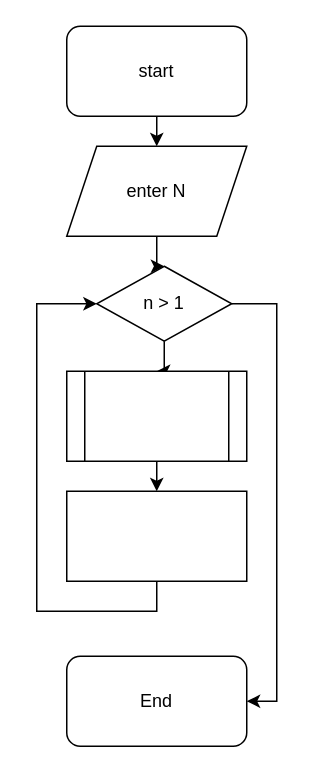
Image size: 315x773. Some labels were removed from this diagram. The shapes that lost their labels are listed below. From the top down, each one's box as (x1, y1, x2, y2) in pixels, then its label:
(65, 370, 247, 461): sub program N
(65, 490, 247, 581): N = N - 1
